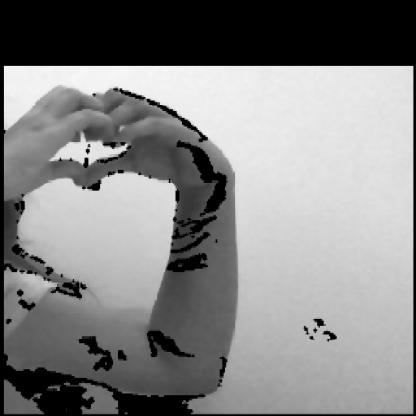heart: (8, 82, 226, 238)
